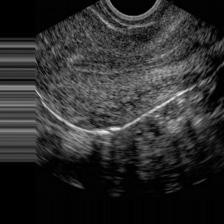no-pcos: (46, 30, 224, 190)
